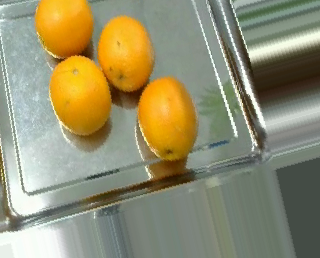Orange: (137, 75, 198, 159), (49, 54, 112, 135), (98, 15, 156, 91), (35, 1, 94, 57)
